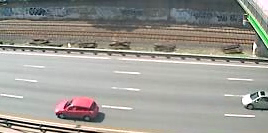car: (53, 95, 102, 122), (240, 90, 268, 111)
